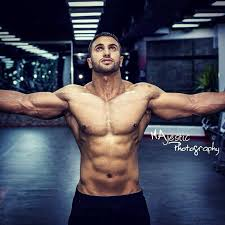middle_eastern_male: (87, 32, 124, 73)
